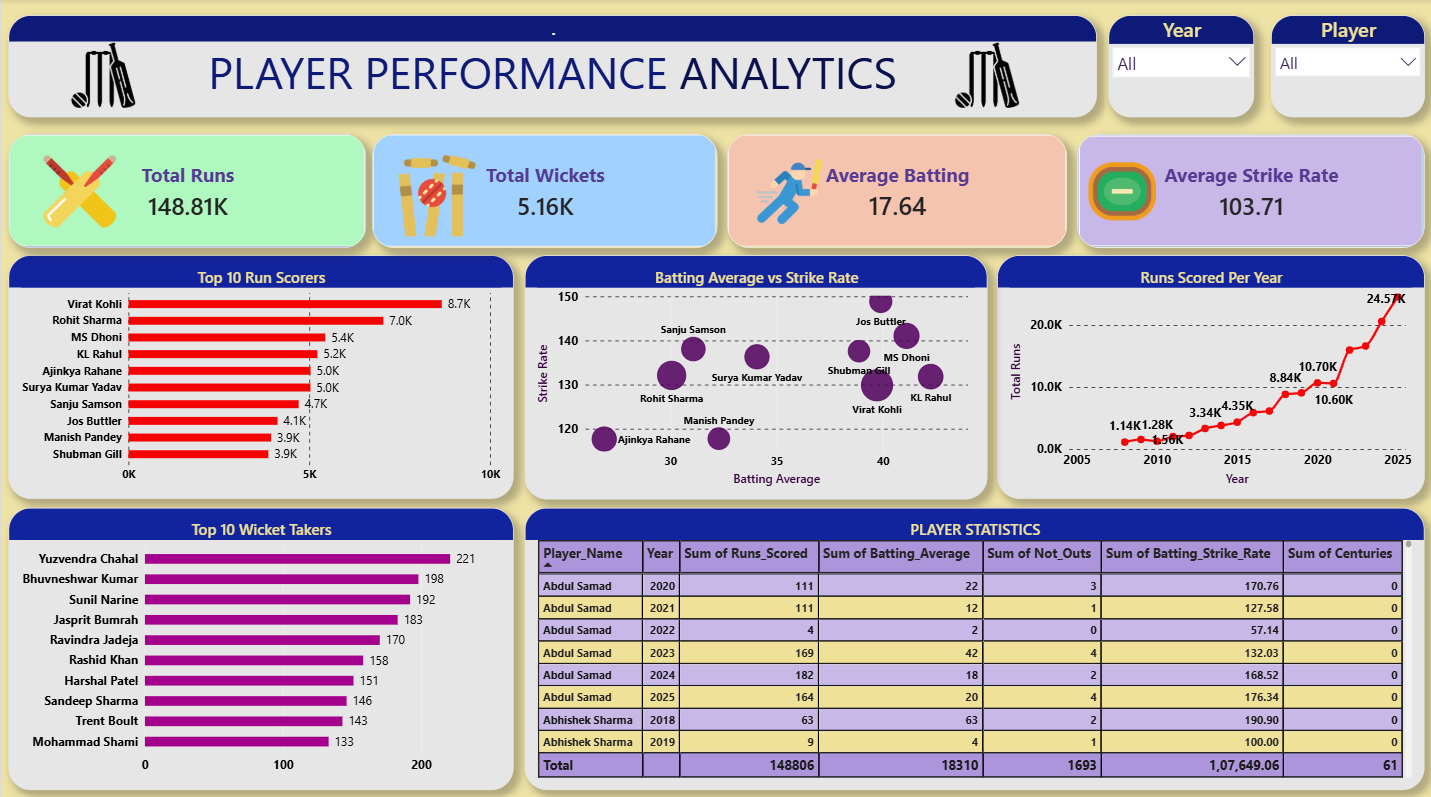

The dashboard page shown, as its layout file describes it:
{"tool":"powerbi","page":{"name":"Page 1","canvas":[1920,1080],"ordinal":0},"visuals":[{"type":"textbox","title":".","box":[10.7,21.3,1458.5,136.8],"z":0},{"type":"clusteredBarChart","title":"Top 10 Run Scorers","fields":{"Category":["cricket_data_2026.Player_Name"],"Y":["cricket_data_2026.Total Runs"]},"box":[10,343.4,676.7,326.6],"z":1},{"type":"cardVisual","fields":{"Data":["cricket_data_2026.Total Runs"]},"box":[10,180.9,479,152.4],"z":2},{"type":"cardVisual","fields":{"Data":["cricket_data_2026.Total Wickets"]},"box":[497.5,180.9,462.3,152.4],"z":3},{"type":"cardVisual","fields":{"Data":["cricket_data_2026.Average Batting"]},"box":[973.1,180.9,455.6,152.4],"z":4},{"type":"cardVisual","fields":{"Data":["cricket_data_2026.Average Strike Rate"]},"box":[1442.1,180.9,465.6,152.4],"z":5},{"type":"lineChart","title":"Runs Scored Per Year","fields":{"Category":["cricket_data_2026.Year"],"Y":["cricket_data_2026.Total Runs"]},"box":[1334.9,343.4,572.8,326.6],"z":6},{"type":"clusteredBarChart","title":"Top 10 Wicket Takers","fields":{"Category":["cricket_data_2026.Player_Name"],"Y":["cricket_data_2026.Total Wickets"]},"box":[10,681.7,676.7,378.5],"z":7},{"type":"scatterChart","title":"Batting Average vs Strike Rate","fields":{"Category":["cricket_data_2026.Player_Name"],"Size":["Sum(cricket_data_2026.Runs_Scored)"],"X":["cricket_data_2026.Average Batting"],"Y":["cricket_data_2026.Average Strike Rate"]},"box":[701.7,342.9,620,326.9],"z":8},{"type":"tableEx","title":"PLAYER STATISTICS","fields":{"Values":["cricket_data_2026.Player_Name","cricket_data_2026.Year","Sum(cricket_data_2026.Runs_Scored)","Sum(cricket_data_2026.Batting_Average)","Sum(cricket_data_2026.Not_Outs)","Sum(cricket_data_2026.Batting_Strike_Rate)","Sum(cricket_data_2026.Centuries)"]},"box":[701.8,681.7,1206,378.5],"z":9},{"type":"slicer","title":"Year","fields":{"Values":["cricket_data_2026.Year"]},"box":[1483.3,21.3,195.4,136.8],"z":10},{"type":"slicer","title":"Player","fields":{"Values":["cricket_data_2026.Player_Name"]},"box":[1701.9,21.3,206.1,136.8],"z":11},{"type":"image","box":[31.8,209.4,147.4,97.1],"z":12},{"type":"image","box":[525.9,209.4,117.2,108.9],"z":13},{"type":"image","box":[1011.7,209.4,90.4,97.1],"z":14},{"type":"image","box":[1457.2,209.4,90.4,97.1],"z":15},{"type":"image","box":[70.3,58.6,134,87.1],"z":16},{"type":"image","box":[1254.5,58.6,134,87.1],"z":17}]}

Visuals, with their boxes in screenshot pixels (x1, y1, x2, y2), scaled from the page's 1920x1080 canvas onto the 1431x797 screenshot:
"." textbox: l=8, t=16, r=1095, b=117
"Top 10 Run Scorers" clusteredBarChart: l=7, t=253, r=512, b=494
cardVisual - cricket_data_2026.Total Runs: l=7, t=133, r=364, b=246
cardVisual - cricket_data_2026.Total Wickets: l=371, t=133, r=715, b=246
cardVisual - cricket_data_2026.Average Batting: l=725, t=133, r=1065, b=246
cardVisual - cricket_data_2026.Average Strike Rate: l=1075, t=133, r=1422, b=246
"Runs Scored Per Year" lineChart: l=995, t=253, r=1422, b=494
"Top 10 Wicket Takers" clusteredBarChart: l=7, t=503, r=512, b=782
"Batting Average vs Strike Rate" scatterChart: l=523, t=253, r=985, b=494
"PLAYER STATISTICS" tableEx: l=523, t=503, r=1422, b=782
"Year" slicer: l=1106, t=16, r=1251, b=117
"Player" slicer: l=1268, t=16, r=1422, b=117
image: l=24, t=155, r=134, b=226
image: l=392, t=155, r=479, b=235
image: l=754, t=155, r=821, b=226
image: l=1086, t=155, r=1153, b=226
image: l=52, t=43, r=152, b=108
image: l=935, t=43, r=1035, b=108
